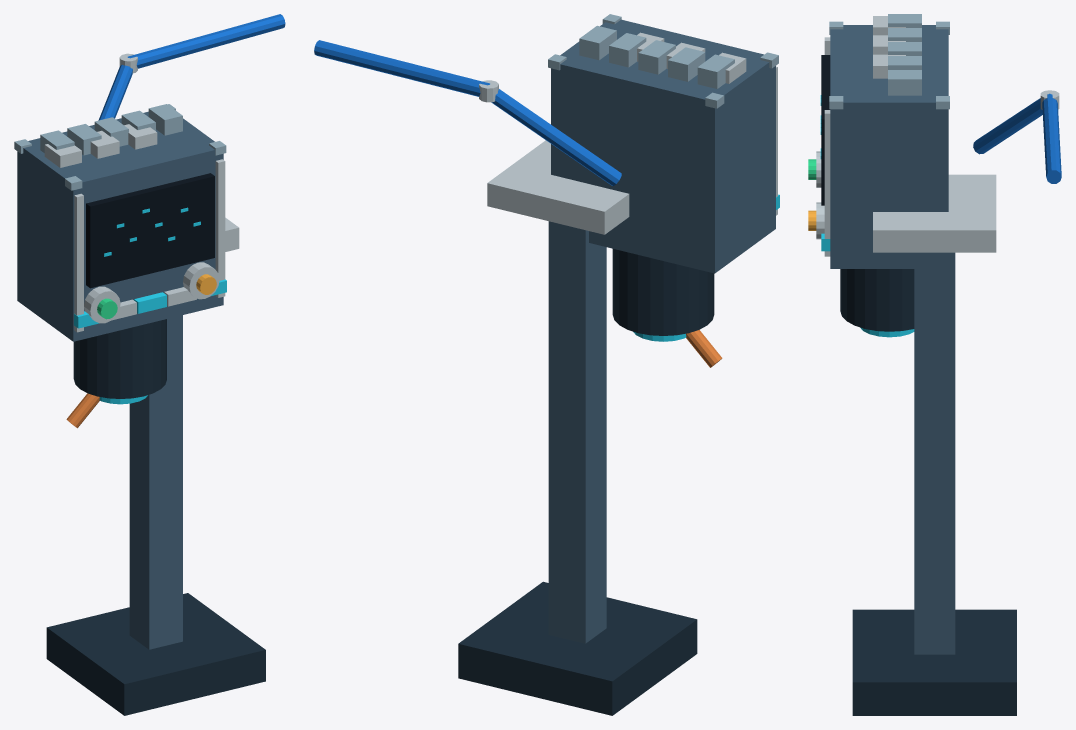
File: 43_L73_InSituOpticalEndpointSensor.fbx
3 views of the same model, side by side, from view 1: azimuth 30°, elevation 25°; view 2: azimuth 150°, elevation 25°; view 3: azimuth 270°, elevation 25° (orthographic). The views are drawn at different scales.
Visible parts, largest first — view 1: InSituOpticalEndpointSensor, InSituOpticalEndpointSensor_Part_0003, InSituOpticalEndpointSensor_Part_0010, InSituOpticalEndpointSensor_Part_0039, InSituOpticalEndpointSensor_Part_0009, InSituOpticalEndpointSensor_Part_0008, InSituOpticalEndpointSensor_Part_0031, InSituOpticalEndpointSensor_Part_0022, InSituOpticalEndpointSensor_Part_0020, InSituOpticalEndpointSensor_Part_0024, InSituOpticalEndpointSensor_Part_0028, InSituOpticalEndpointSensor_Part_0029 (+6 smaller); view 2: InSituOpticalEndpointSensor, InSituOpticalEndpointSensor_Part_0003, InSituOpticalEndpointSensor_Part_0039, InSituOpticalEndpointSensor_Part_0031, InSituOpticalEndpointSensor_Part_0028, InSituOpticalEndpointSensor_Part_0027, InSituOpticalEndpointSensor_Part_0029, InSituOpticalEndpointSensor_Part_0030; view 3: InSituOpticalEndpointSensor, InSituOpticalEndpointSensor_Part_0003, InSituOpticalEndpointSensor_Part_0039, InSituOpticalEndpointSensor_Part_0009, InSituOpticalEndpointSensor_Part_0010, InSituOpticalEndpointSensor_Part_0031, InSituOpticalEndpointSensor_Part_0030, InSituOpticalEndpointSensor_Part_0027, InSituOpticalEndpointSensor_Part_0028, InSituOpticalEndpointSensor_Part_0029.
Part boxes in pixels (left/top/right/bottom): InSituOpticalEndpointSensor: left=46, top=14, right=285, bottom=715; InSituOpticalEndpointSensor_Part_0003: left=17, top=111, right=223, bottom=341; InSituOpticalEndpointSensor_Part_0010: left=86, top=173, right=214, bottom=288; InSituOpticalEndpointSensor_Part_0039: left=73, top=319, right=166, bottom=398; InSituOpticalEndpointSensor_Part_0009: left=215, top=159, right=225, bottom=297; InSituOpticalEndpointSensor_Part_0008: left=74, top=193, right=83, bottom=332; InSituOpticalEndpointSensor_Part_0031: left=148, top=104, right=182, bottom=135; InSituOpticalEndpointSensor_Part_0022: left=183, top=262, right=219, bottom=299; InSituOpticalEndpointSensor_Part_0020: left=84, top=286, right=120, bottom=323; InSituOpticalEndpointSensor_Part_0024: left=44, top=144, right=81, bottom=167; InSituOpticalEndpointSensor_Part_0028: left=67, top=124, right=101, bottom=155; InSituOpticalEndpointSensor_Part_0029: left=94, top=117, right=128, bottom=146; InSituOpticalEndpointSensor: left=314, top=40, right=697, bottom=715; InSituOpticalEndpointSensor_Part_0003: left=551, top=19, right=775, bottom=273; InSituOpticalEndpointSensor_Part_0039: left=612, top=249, right=714, bottom=335; InSituOpticalEndpointSensor_Part_0031: left=579, top=25, right=616, bottom=60; InSituOpticalEndpointSensor_Part_0028: left=668, top=47, right=705, bottom=81; InSituOpticalEndpointSensor_Part_0027: left=697, top=54, right=734, bottom=88; InSituOpticalEndpointSensor_Part_0029: left=638, top=40, right=675, bottom=74; InSituOpticalEndpointSensor_Part_0030: left=609, top=33, right=646, bottom=67; InSituOpticalEndpointSensor: left=852, top=90, right=1061, bottom=715; InSituOpticalEndpointSensor_Part_0003: left=830, top=25, right=948, bottom=268; InSituOpticalEndpointSensor_Part_0039: left=840, top=269, right=914, bottom=331; InSituOpticalEndpointSensor_Part_0009: left=824, top=110, right=830, bottom=256; InSituOpticalEndpointSensor_Part_0010: left=821, top=55, right=830, bottom=205; InSituOpticalEndpointSensor_Part_0031: left=888, top=70, right=921, bottom=95; InSituOpticalEndpointSensor_Part_0030: left=888, top=56, right=921, bottom=69; InSituOpticalEndpointSensor_Part_0027: left=888, top=14, right=921, bottom=27; InSituOpticalEndpointSensor_Part_0028: left=888, top=28, right=921, bottom=41; InSituOpticalEndpointSensor_Part_0029: left=888, top=42, right=921, bottom=55.
Size of the model in its own units: 94.08 by 162 by 61.7.
